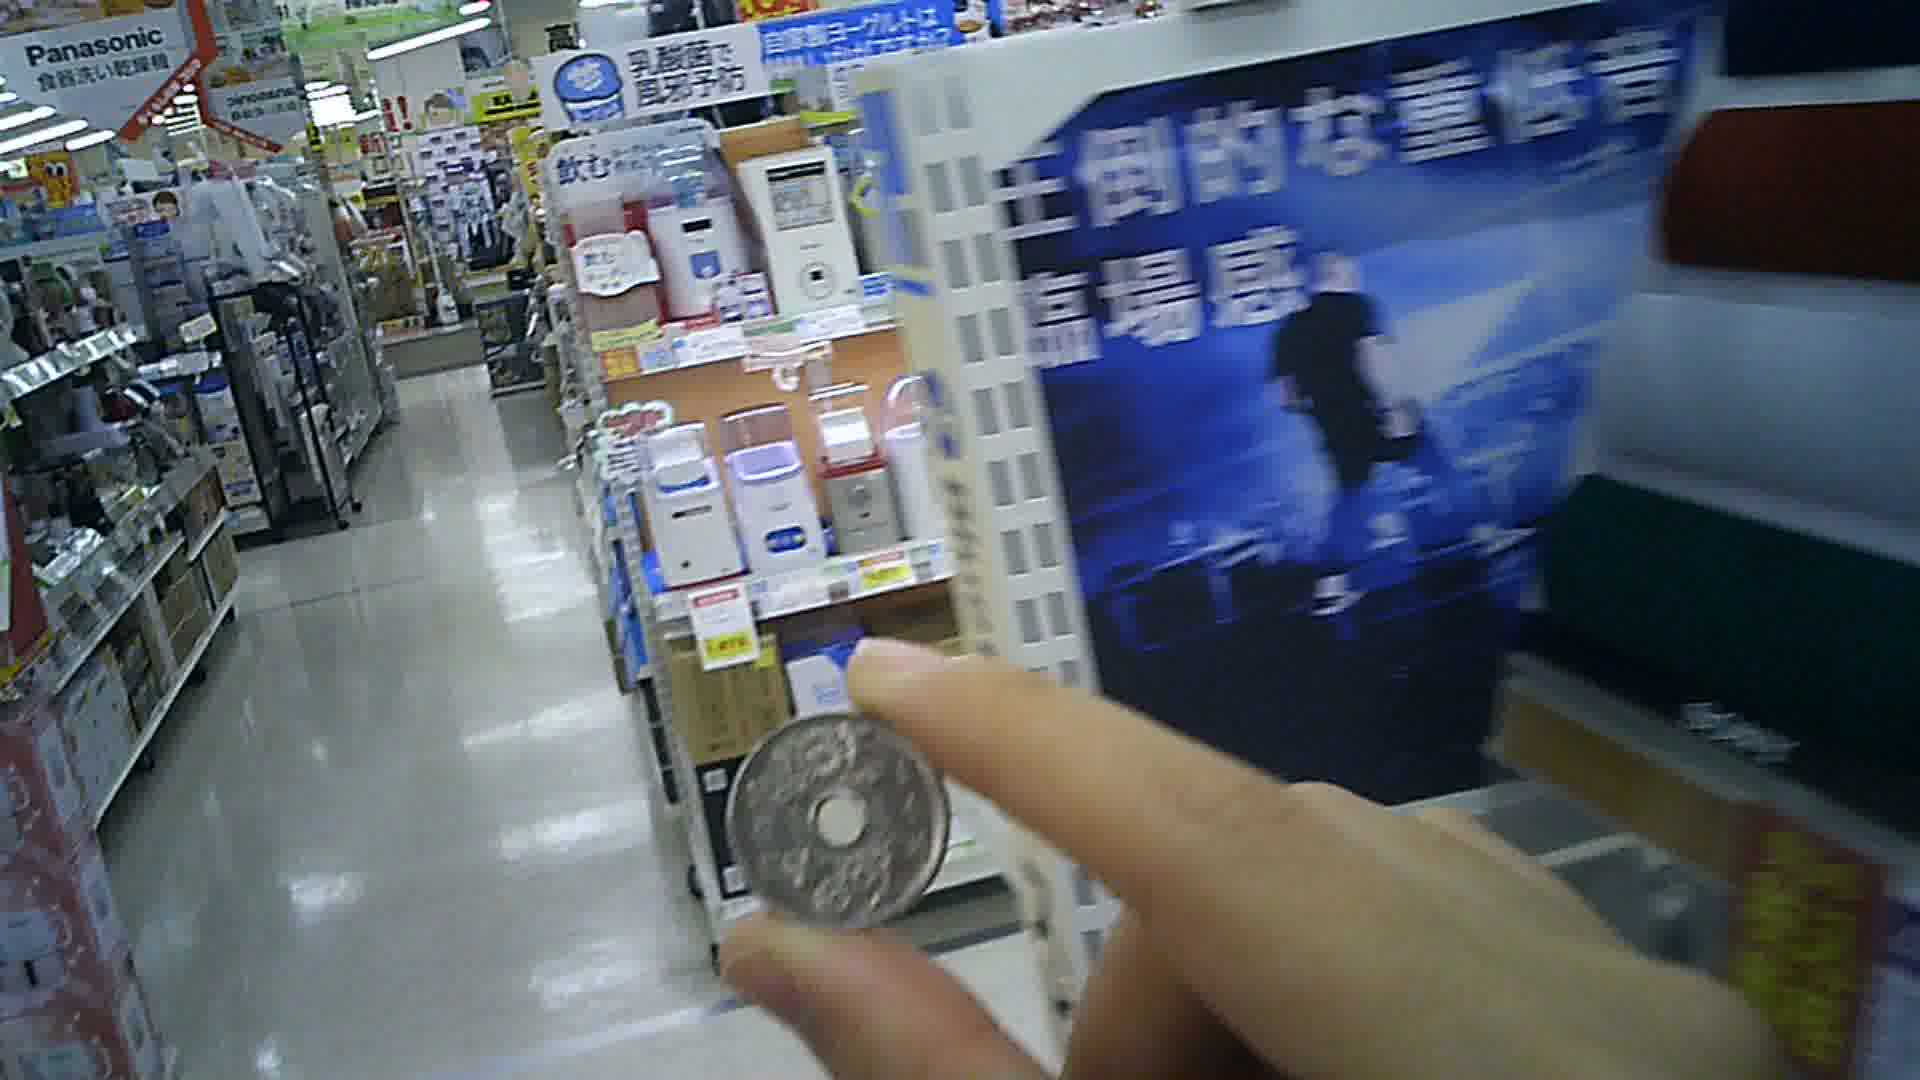50 Yen: (724, 709, 952, 932)
